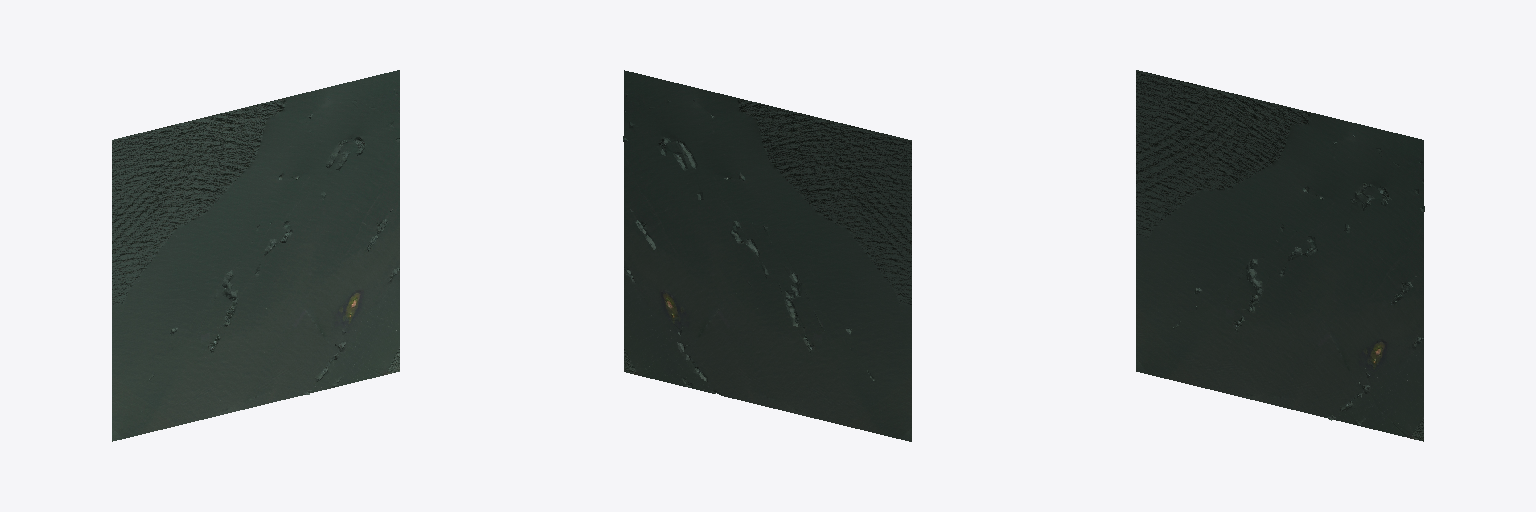
3 renders of one model, left to right at view 1: azimuth 30°, elevation 25°; view 2: azimuth 150°, elevation 25°; view 3: azimuth 330°, elevation 25°, orthographic.
Size of the model in its own units: 252 by 252 by 5.35.
Materials: 2 (1 with a texture image).